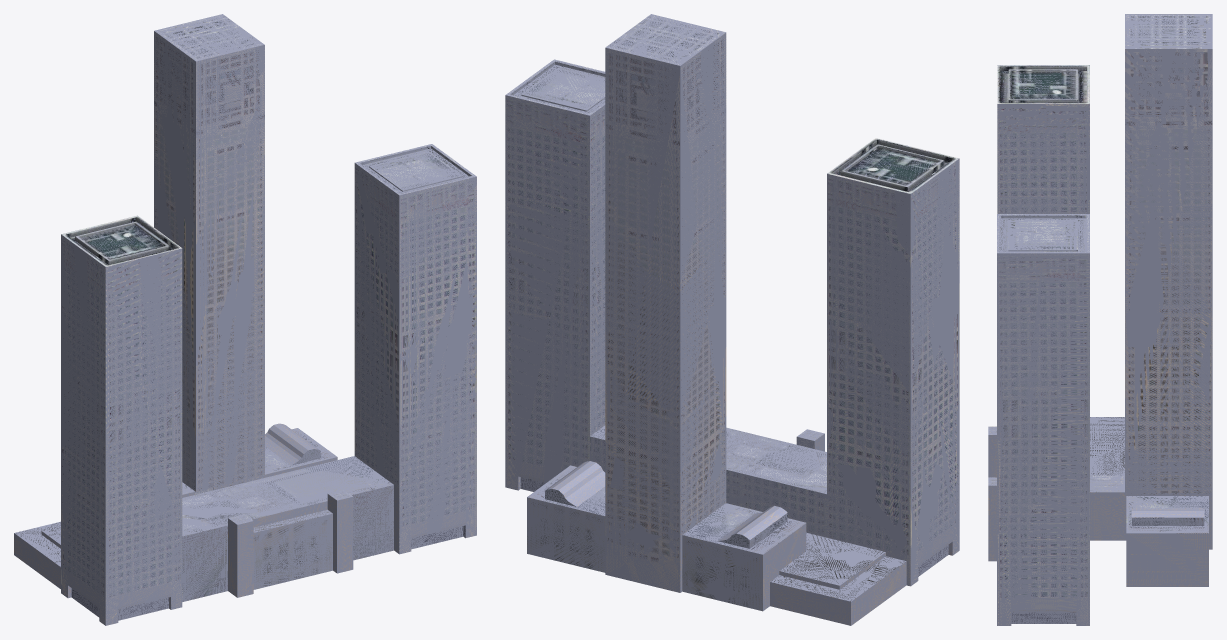
Rendered from Beijing_Yintai_Centre.fbx.
The picture shows the model from 3 angles, left to right: view 1: azimuth 30°, elevation 25°; view 2: azimuth 150°, elevation 25°; view 3: azimuth 270°, elevation 25°; orthographic projection. The views are drawn at different scales.
Visible parts, largest first — view 1: Model; view 2: Model; view 3: Model.
Boxes of the visible parts, x1,y1,x2,y2 form: Model: [14, 14, 476, 625]; Model: [505, 14, 959, 625]; Model: [988, 14, 1212, 625].
Size of the model in its own units: 201 by 250 by 101.
